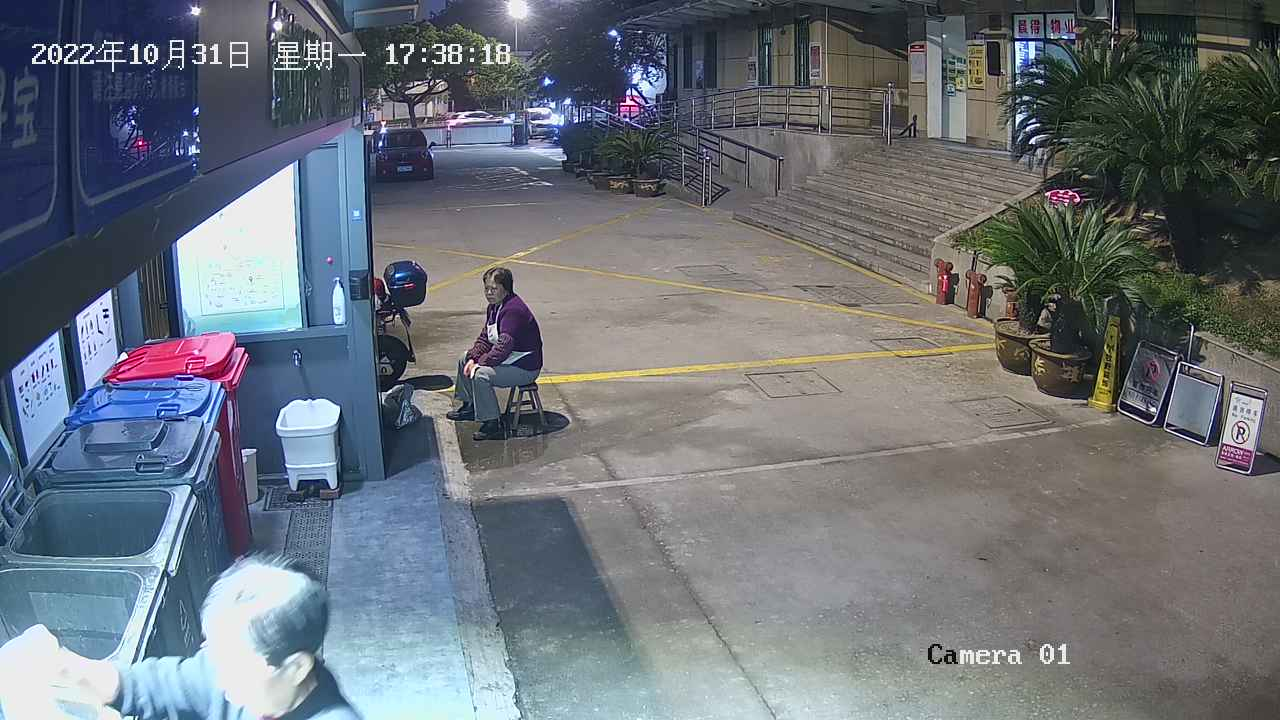person: (59, 555, 374, 720), (443, 266, 544, 442)
